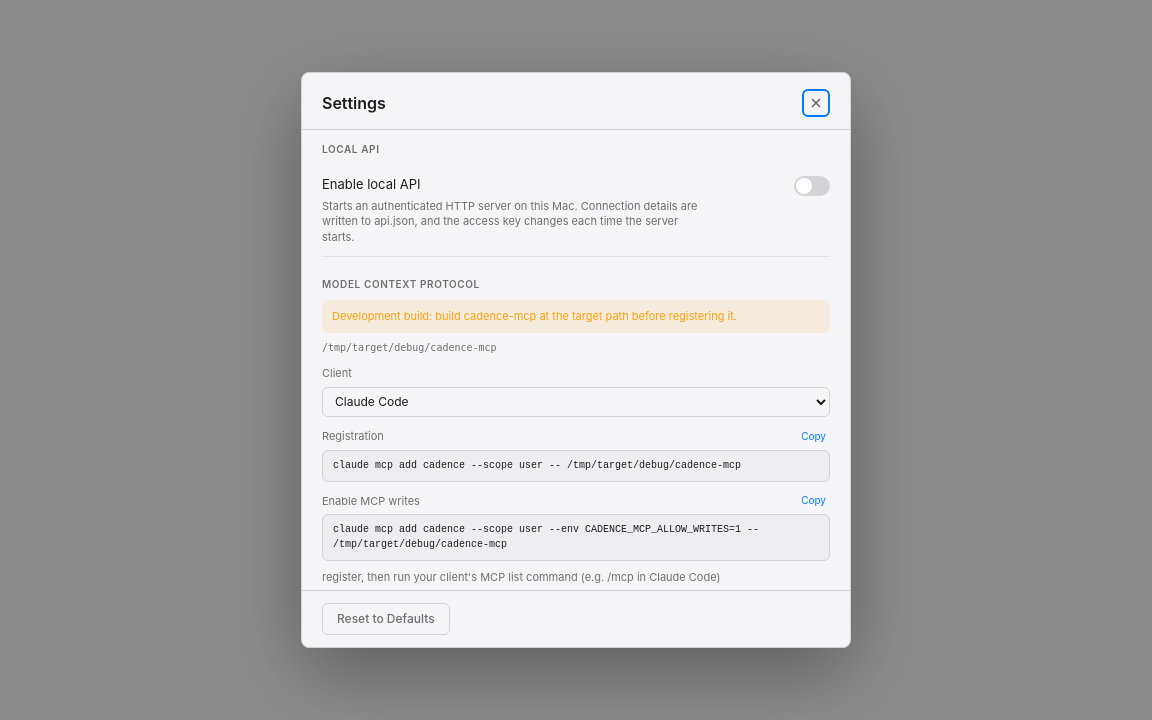
Scenario: SettingsModal local API setting › keeps the persisted value and surfaces enable failures inline
Click the switch named "Enable local API": [812, 186] box [794,176,830,196]
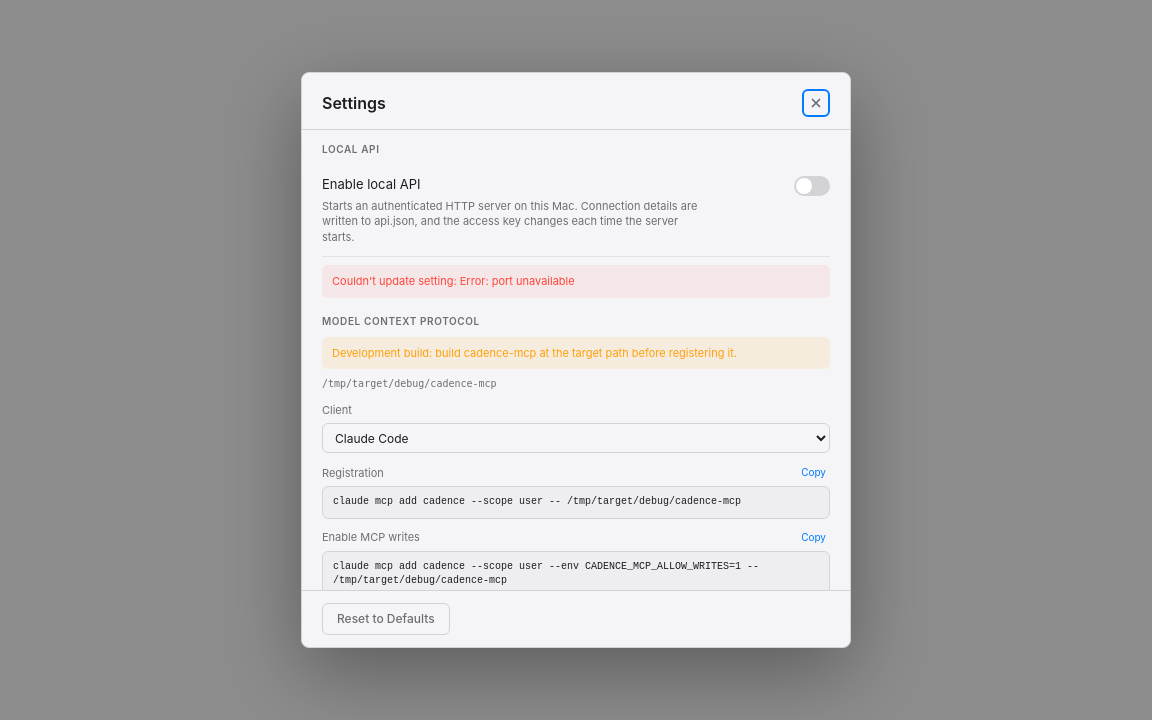
Result: the message shows "port unavailable" at [332,274,575,288]
